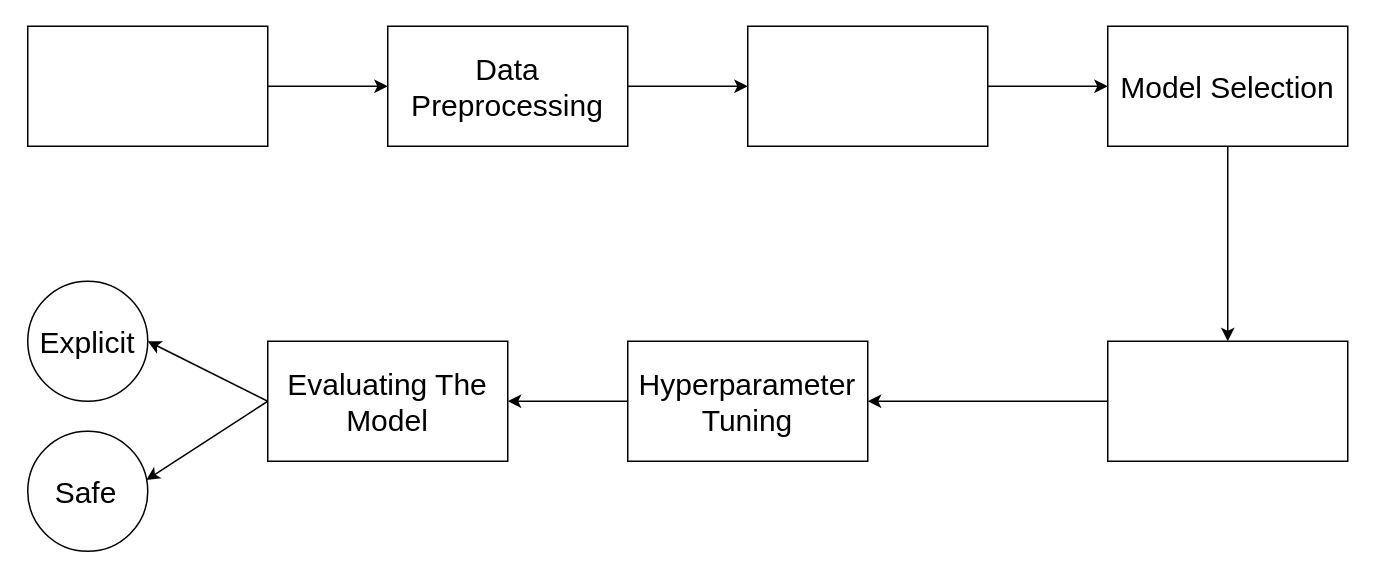
Image size: 1374x578. Some labels were removed from this diagram. The shapes that lost their labels are listed below. From the top down, each one's centre as x and y in pixels, then its label:
At (x=147, y=85): "Data Collection".
At (x=867, y=85): "Model Architecure".
At (x=1227, y=400): "Model Training".
